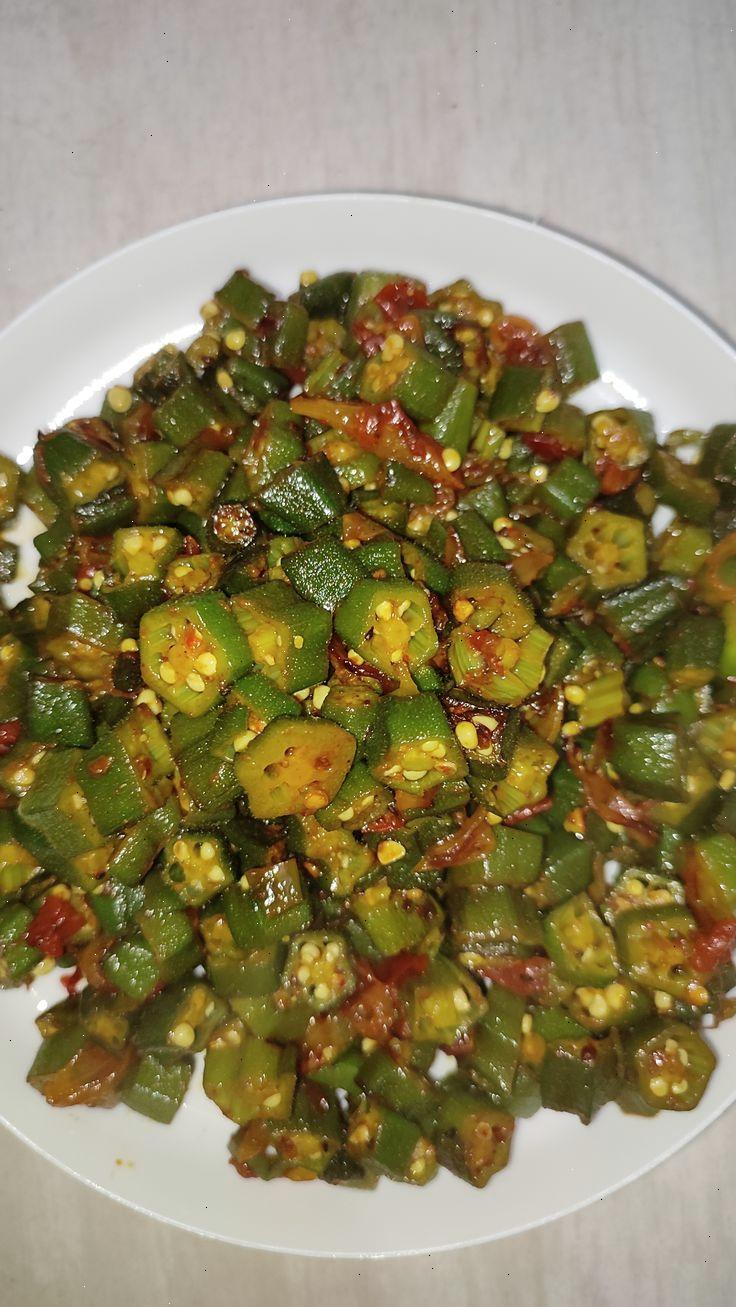bhindi: (0, 373, 736, 1108)
